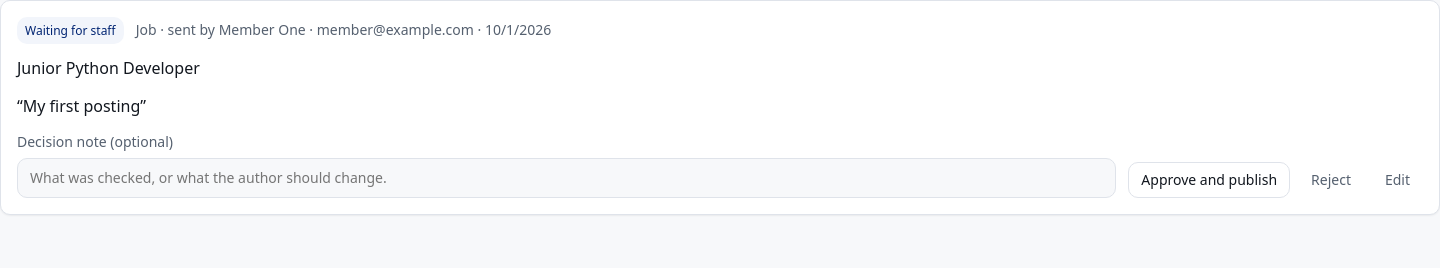
it: SubmissionQueueCard › reloads the queue when another moderator got there first
Click the button "Reject" at point(1331, 180), box [1298, 162, 1364, 198]
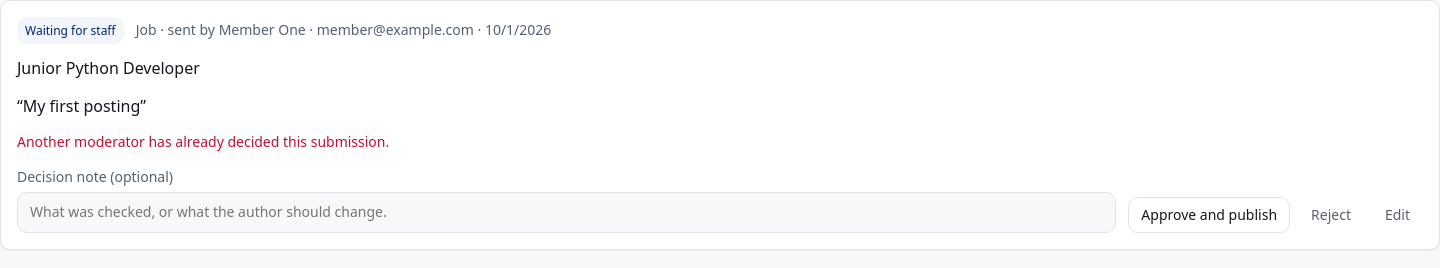
Expected: the text "Another moderator has already decided this submission." is shown, [17, 132, 389, 151]
